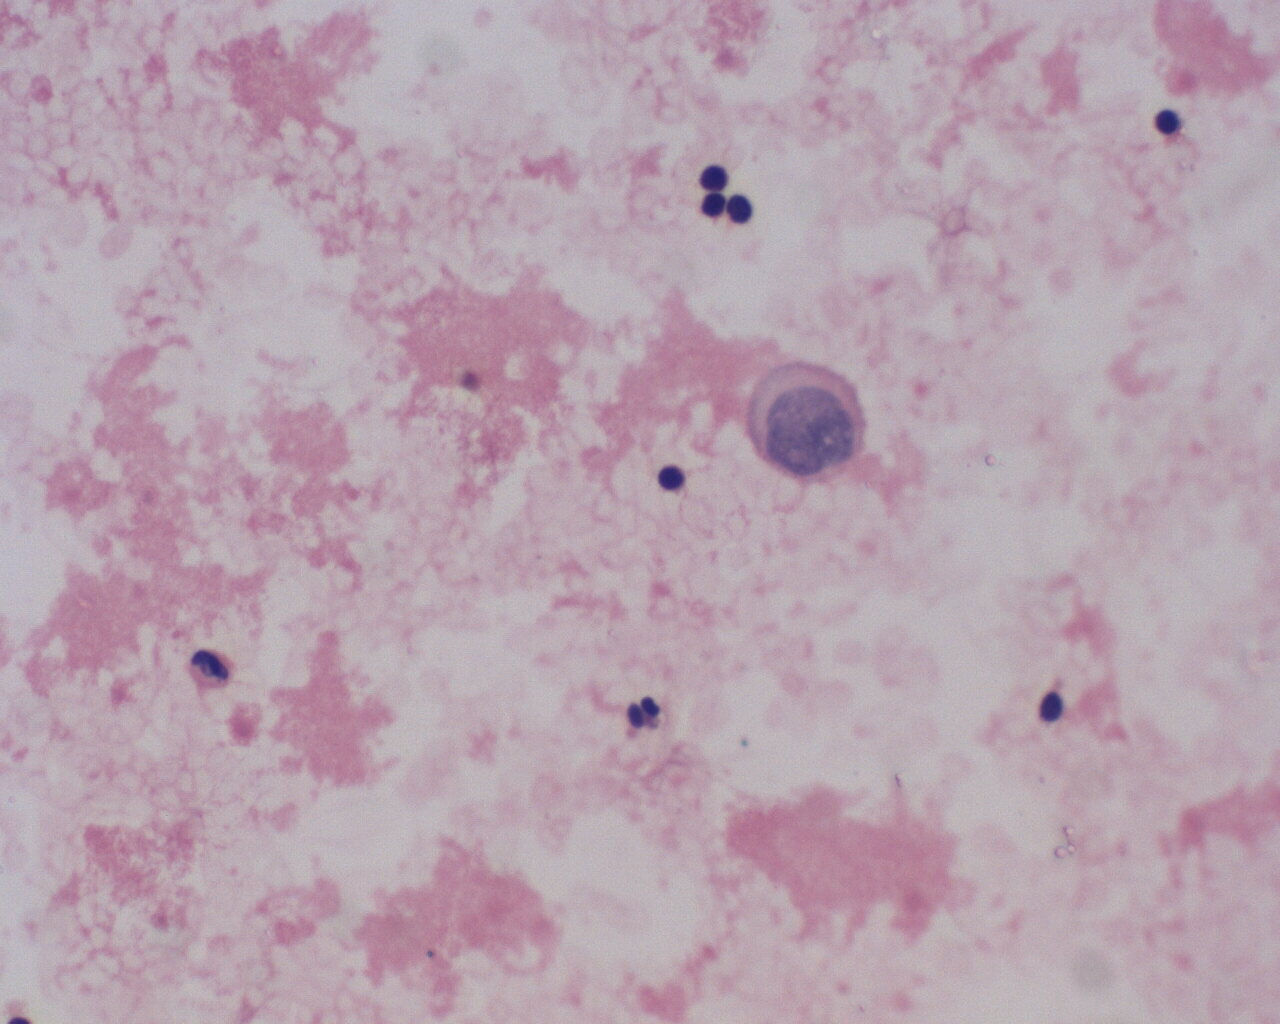lymph: (1035, 686, 1070, 728), (653, 460, 689, 499), (1148, 104, 1186, 140), (724, 194, 757, 228), (697, 160, 730, 190)
